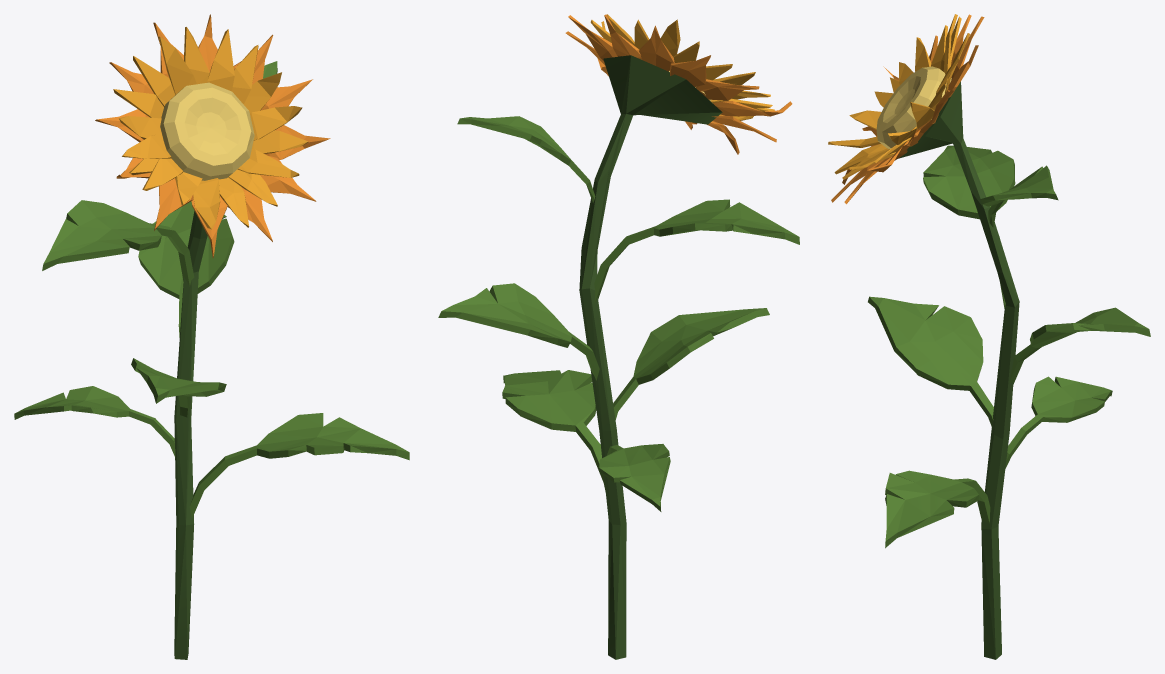
Rendered from sunflower.fbx.
The picture shows the model from 3 angles, left to right: view 1: azimuth 30°, elevation 25°; view 2: azimuth 150°, elevation 25°; view 3: azimuth 270°, elevation 25°; orthographic projection. The views are drawn at different scales.
Visible parts, largest first — view 1: sunflower; view 2: sunflower; view 3: sunflower.
Part boxes in pixels (bbox=[...]): sunflower: bbox=[14, 14, 409, 659]; sunflower: bbox=[438, 14, 799, 659]; sunflower: bbox=[828, 14, 1150, 659].
Bounding box in the file's own units: 36.42 × 67.17 × 31.48.
